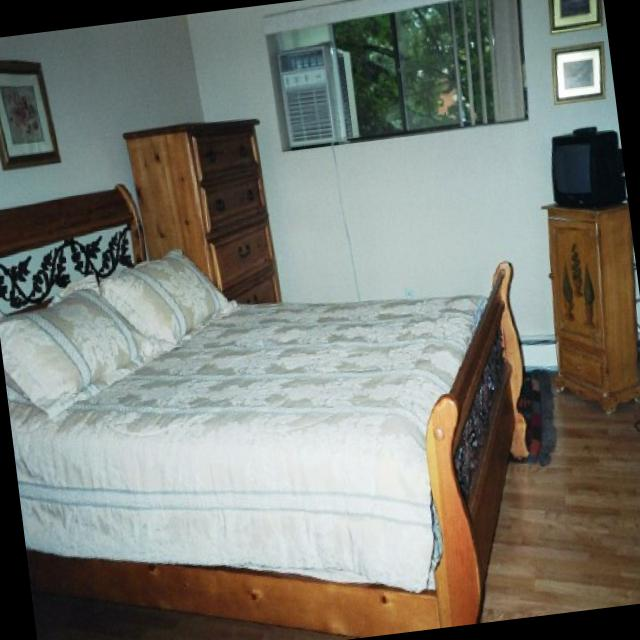2001: (263, 0, 525, 146)
air conditioning: (273, 43, 359, 146)
bed -occluded-: (0, 183, 534, 637)
chest: (122, 119, 283, 299)
floor -X: (30, 346, 640, 640)
furniture crop: (544, 197, 640, 413)
picture crop: (0, 57, 59, 168), (550, 46, 601, 100), (547, 0, 598, 26)
pillow occluded: (4, 280, 170, 417), (100, 245, 231, 345)
tv camera: (550, 129, 621, 202)
wall clock: (189, 0, 640, 363), (0, 16, 239, 530)
